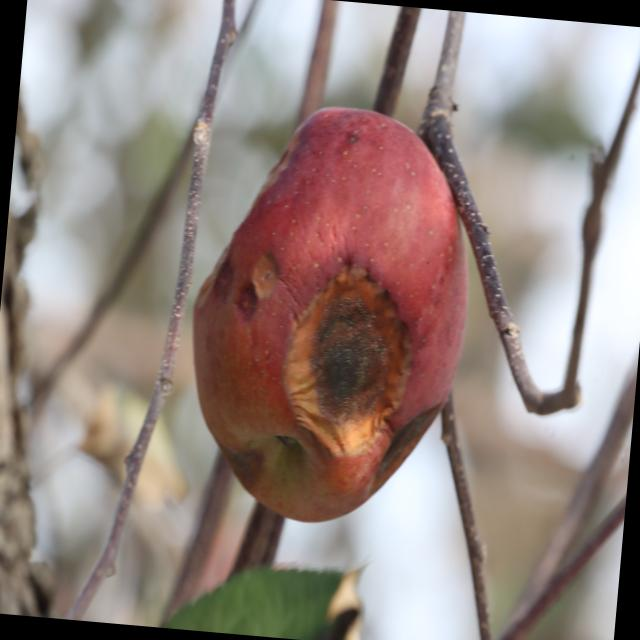rotten: (166, 87, 494, 543)
